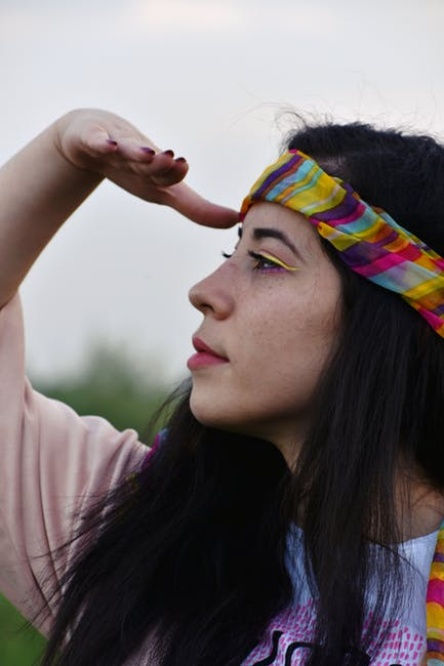face: (190, 203, 323, 423)
